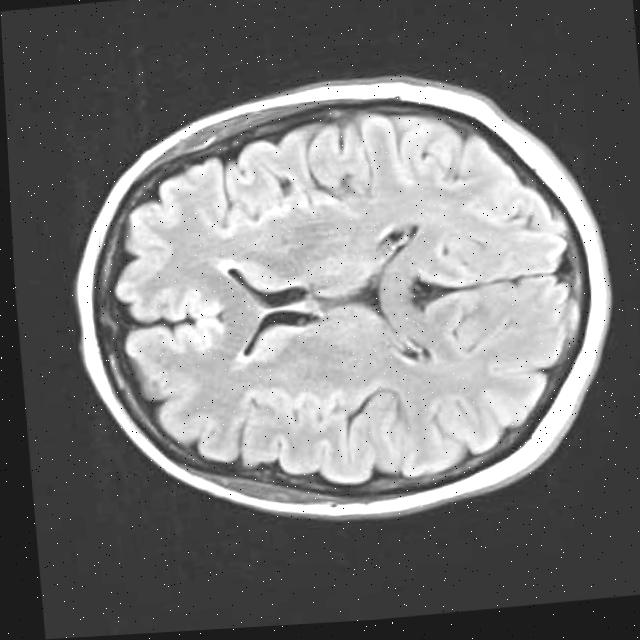NoTumor: (54, 53, 631, 549)
